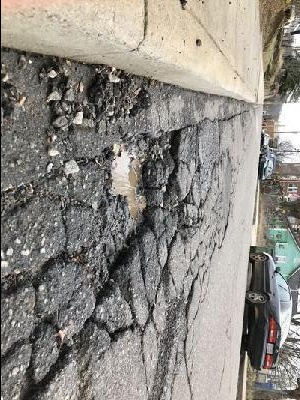pothole: (86, 126, 183, 305)
